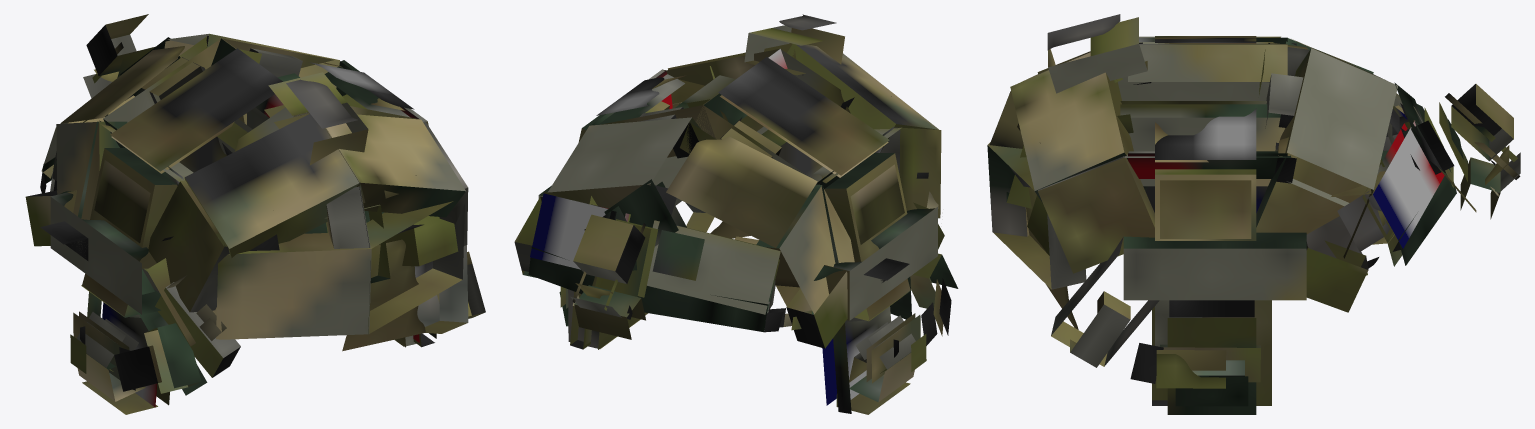
Rendered from assault_h.obj.
The picture shows the model from 3 angles, left to right: view 1: azimuth 30°, elevation 25°; view 2: azimuth 150°, elevation 25°; view 3: azimuth 270°, elevation 25°; orthographic projection. The views are drawn at different scales.
Visible parts, largest first — view 1: VOLGA2; view 2: VOLGA2; view 3: VOLGA2.
Part boxes in pixels (x1=…): VOLGA2: x1=25, y1=14, x2=485, y2=414; VOLGA2: x1=514, y1=14, x2=958, y2=414; VOLGA2: x1=987, y1=14, x2=1520, y2=414.
Bounding box in the file's own units: 0.8438 × 0.6897 × 1.06.
